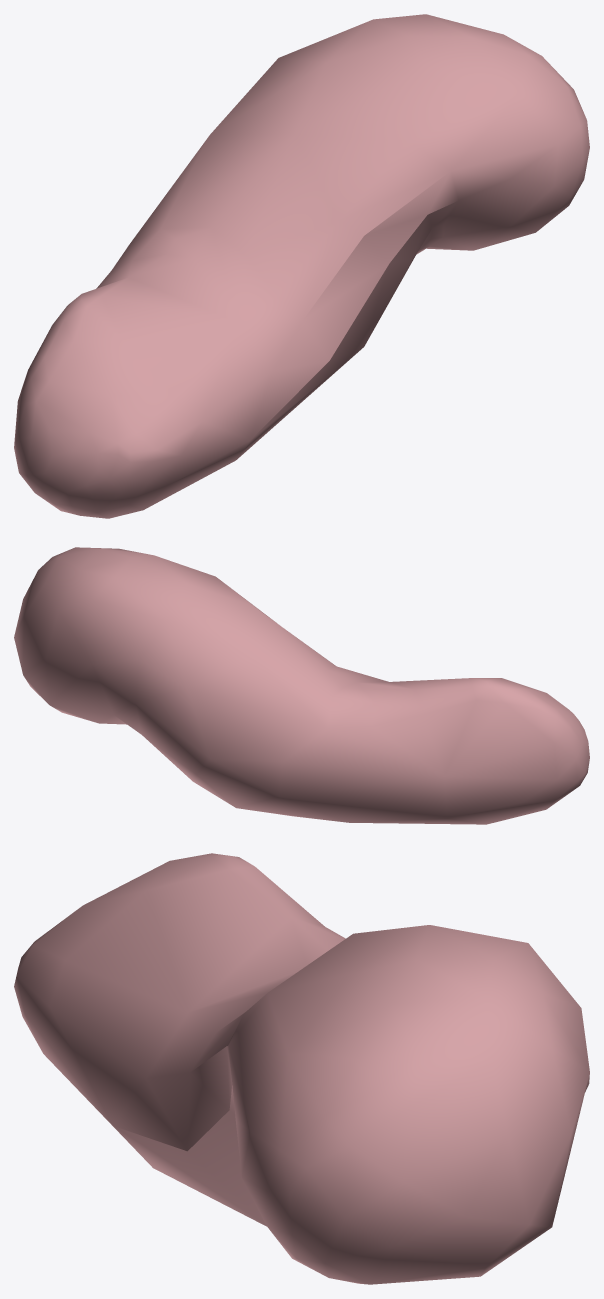
The model's file is fma14964_fj2605.glb.
The picture shows the model from 3 angles, top to bottom: view 1: azimuth 30°, elevation 25°; view 2: azimuth 150°, elevation 25°; view 3: azimuth 270°, elevation 25°; orthographic projection. The views are drawn at different scales.
Parts seen in each view (by area): view 1: FMA14964_FJ2605; view 2: FMA14964_FJ2605; view 3: FMA14964_FJ2605.
Part boxes in pixels (x1,y1,x2,y2): FMA14964_FJ2605: [14, 14, 589, 518]; FMA14964_FJ2605: [14, 547, 589, 824]; FMA14964_FJ2605: [14, 853, 589, 1284].
Size of the model in its own units: 0.0626 by 0.0291 by 0.0363.
